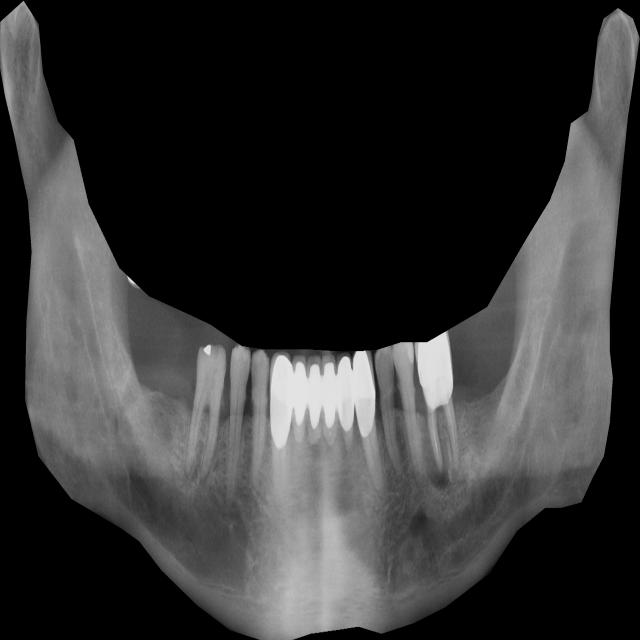mandibula: (0, 1, 640, 640)
